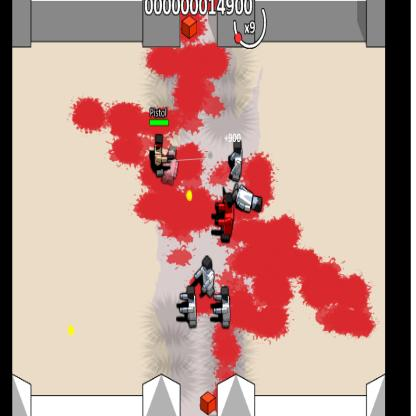agent: (152, 135, 166, 178)
ball: (186, 190, 194, 201), (68, 324, 74, 338)
boss: (217, 193, 234, 245)
jombie: (183, 284, 197, 330), (200, 258, 216, 298), (230, 141, 244, 181), (220, 287, 231, 328)
